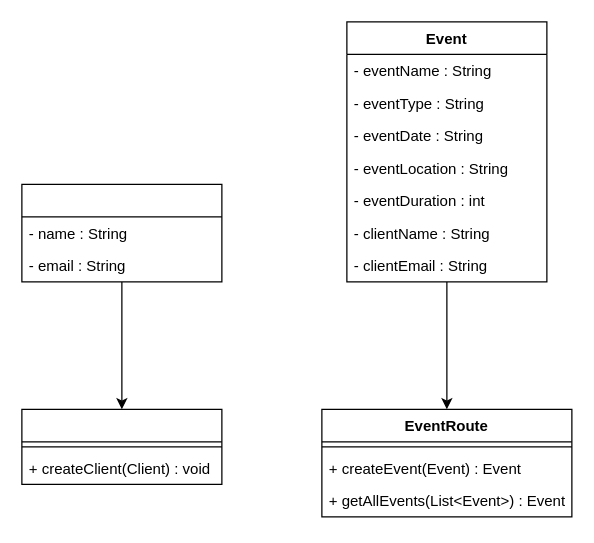
Some shapes in this 594 by 543 pixel diagram are drawn without their labels. The box of each missing label's shape, as (x1, y1, x2, y2) in pixels:
Client: (21, 183, 222, 282)
ClientRoute: (21, 408, 222, 484)
